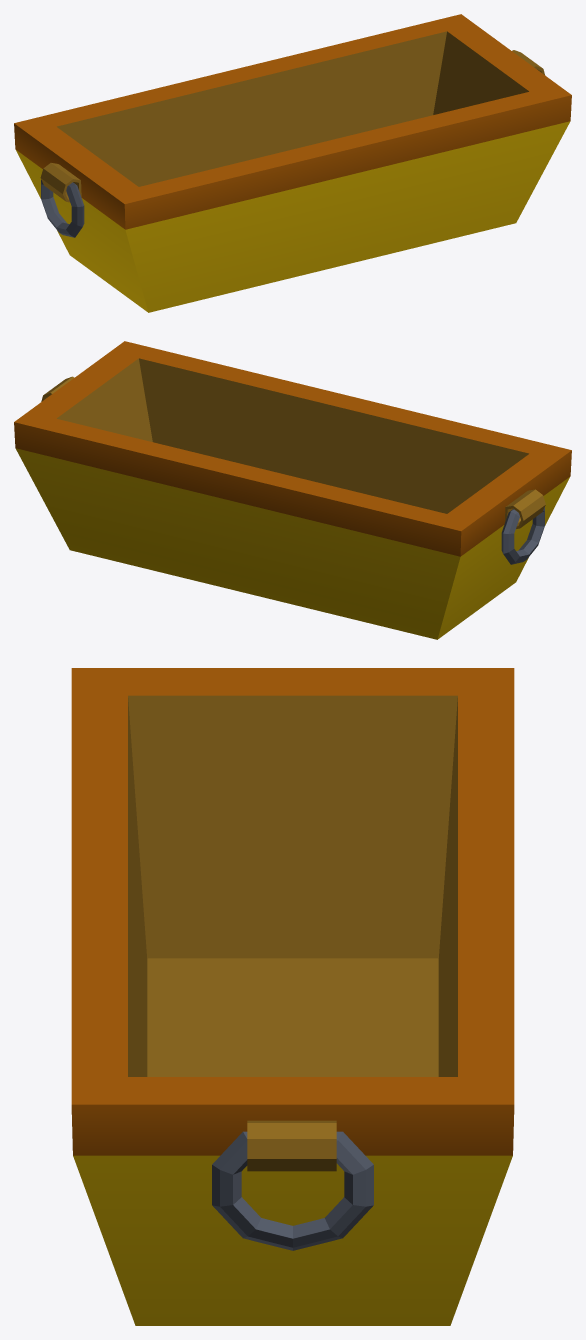
The model's file is caja_de_comida_textura.fbx.
The picture shows the model from 3 angles, top to bottom: view 1: azimuth 30°, elevation 25°; view 2: azimuth 150°, elevation 25°; view 3: azimuth 270°, elevation 25°; orthographic projection. The views are drawn at different scales.
Parts seen in each view (by area): view 1: pTorus3; view 2: pTorus3; view 3: pTorus3.
Boxes of the visible parts, bbox=[...] form: pTorus3: bbox=[14, 14, 571, 312]; pTorus3: bbox=[14, 341, 571, 639]; pTorus3: bbox=[71, 668, 514, 1325].
Size of the model in its own units: 3.89 by 1 by 1.54.
